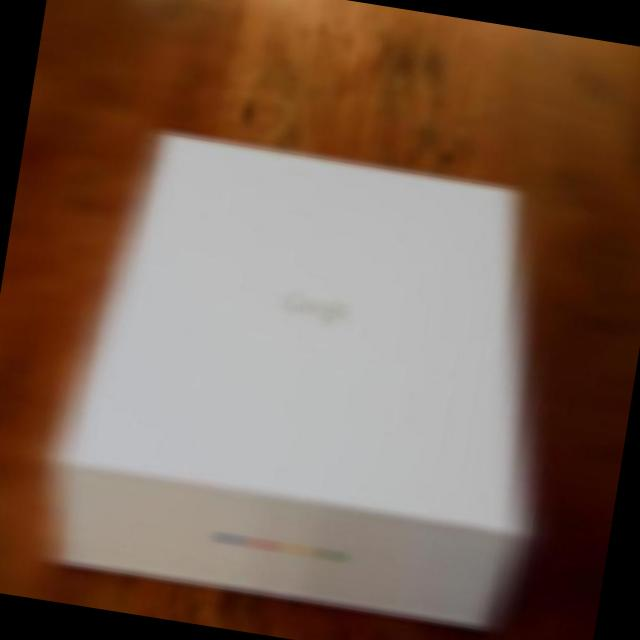box: (50, 111, 589, 640)
